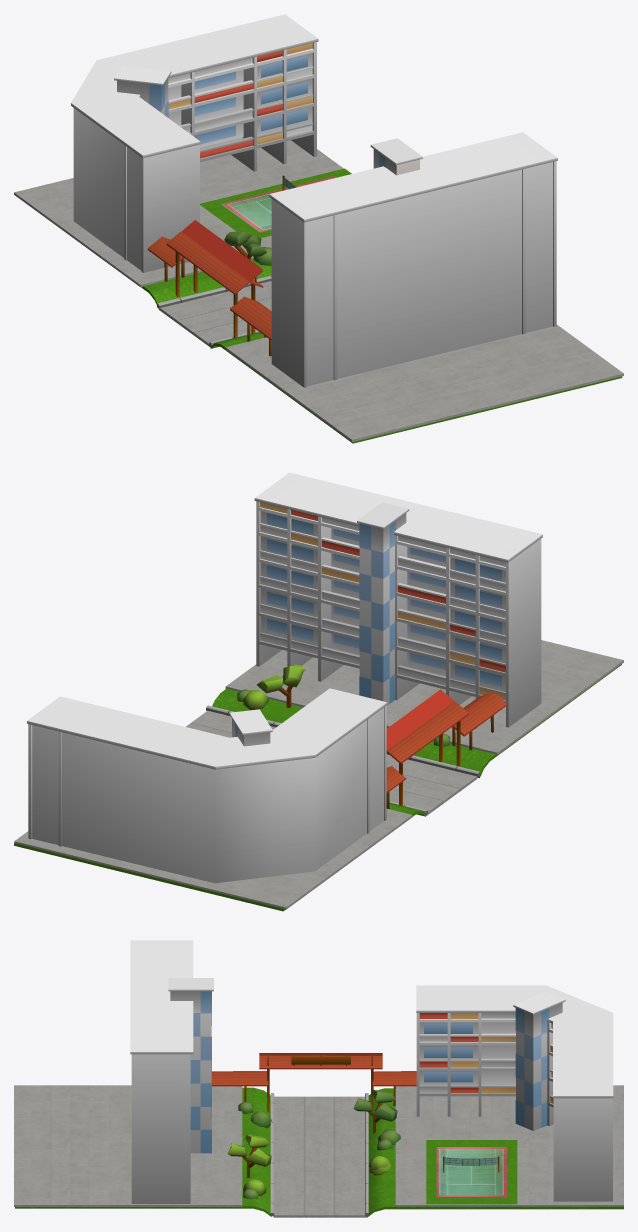
File: Level 3 Chunk 2 V2.fbx
3 renders of one model, top to bottom at view 1: azimuth 30°, elevation 25°; view 2: azimuth 150°, elevation 25°; view 3: azimuth 270°, elevation 25°, orthographic. The views are drawn at different scales.
Visible parts, largest first — view 1: pCube15123, pCube15252, pCube13882, pCube13883, pCube13884, pCube15125, pCube15136, pCube15134, pCube13878, pCube13870, pCube15131, pCube13876; view 2: pCube15252, pCube15123, pCube13882, pCube13883, pCube13884, pCube13870, pCube15136, pCube15134, pCube13878, pCube15131, pCube13879, pCube13874; view 3: pCube15252, pCube15123, pCube13882, pCube13883, pCube13884, pCube15125, pCube13878, pCube13870, pCube15136, pCube15131, pCube13879, pCube13876 (+4 smaller).
Boxes of the visible parts, x1,y1,x2,y2 form: pCube15123: [269, 132, 557, 387]; pCube15252: [71, 14, 318, 272]; pCube13882: [225, 324, 623, 442]; pCube13883: [14, 140, 343, 287]; pCube13884: [159, 281, 271, 347]; pCube15125: [200, 168, 351, 237]; pCube15136: [166, 231, 263, 294]; pCube15134: [181, 220, 263, 282]; pCube13878: [141, 259, 271, 309]; pCube13870: [210, 332, 622, 443]; pCube15131: [230, 296, 271, 340]; pCube13876: [224, 231, 267, 259]; pCube15252: [27, 688, 387, 883]; pCube15123: [254, 472, 542, 727]; pCube13882: [225, 640, 623, 754]; pCube13883: [14, 809, 412, 909]; pCube13884: [186, 710, 477, 816]; pCube13870: [212, 664, 621, 778]; pCube15136: [386, 701, 468, 763]; pCube15134: [386, 689, 454, 749]; pCube13878: [14, 803, 425, 911]; pCube15131: [452, 691, 506, 736]; pCube13879: [257, 664, 304, 707]; pCube13874: [206, 705, 479, 776]; pCube15252: [416, 985, 613, 1201]; pCube15123: [130, 940, 213, 1203]; pCube13882: [14, 1085, 242, 1206]; pCube13883: [395, 1085, 623, 1206]; pCube13884: [273, 1096, 366, 1217]; pCube15125: [426, 1140, 517, 1204]; pCube13878: [367, 1088, 623, 1217]; pCube13870: [15, 1087, 271, 1216]; pCube15136: [259, 1055, 382, 1069]; pCube15131: [211, 1071, 268, 1086]; pCube13879: [227, 1134, 271, 1177]; pCube13876: [353, 1089, 397, 1133].
Bounding box in the file's own units: 12.43 × 8.52 × 26.6.
Materials: 2 (2 with a texture image).
